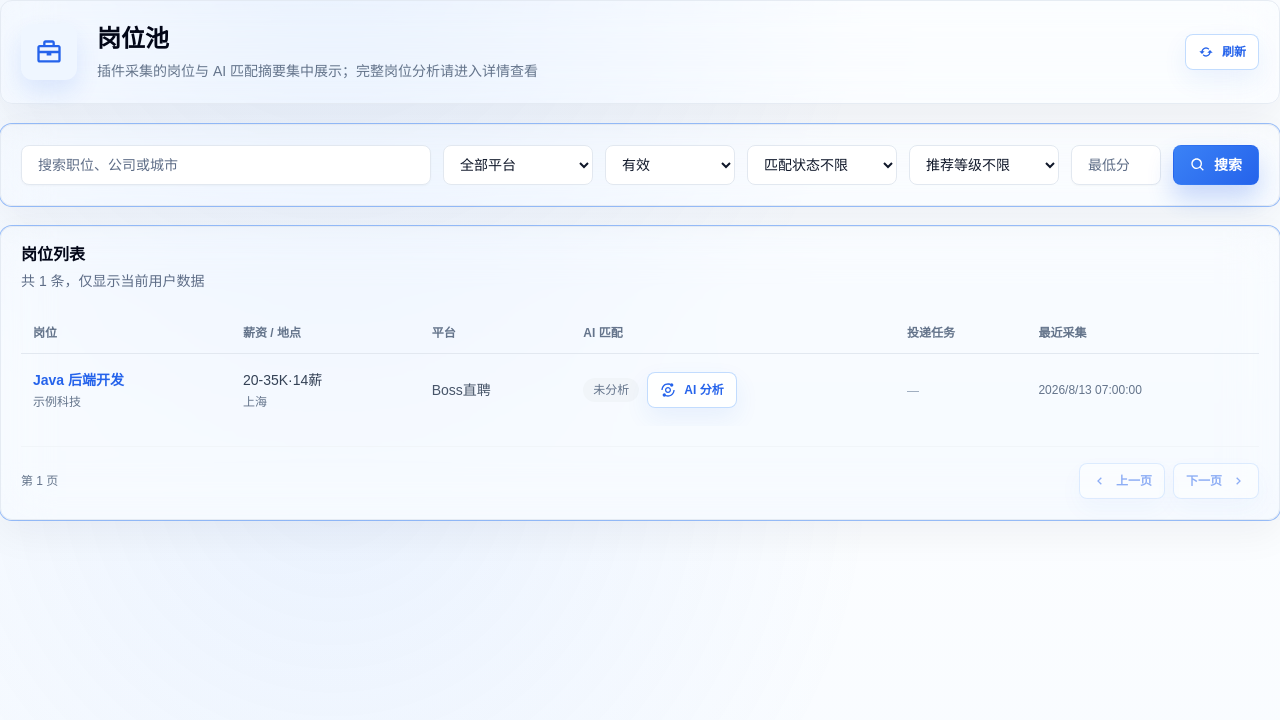
Test: 第五轮统一岗位池 › 未分析岗位提交分析后展示排队状态并禁止重复点击
The image size is (1280, 720).
What coordinates should you click on to do the following:
click the button "AI 分析"
I would click on:
 (692, 390)
Its box is [647,372,737,408].
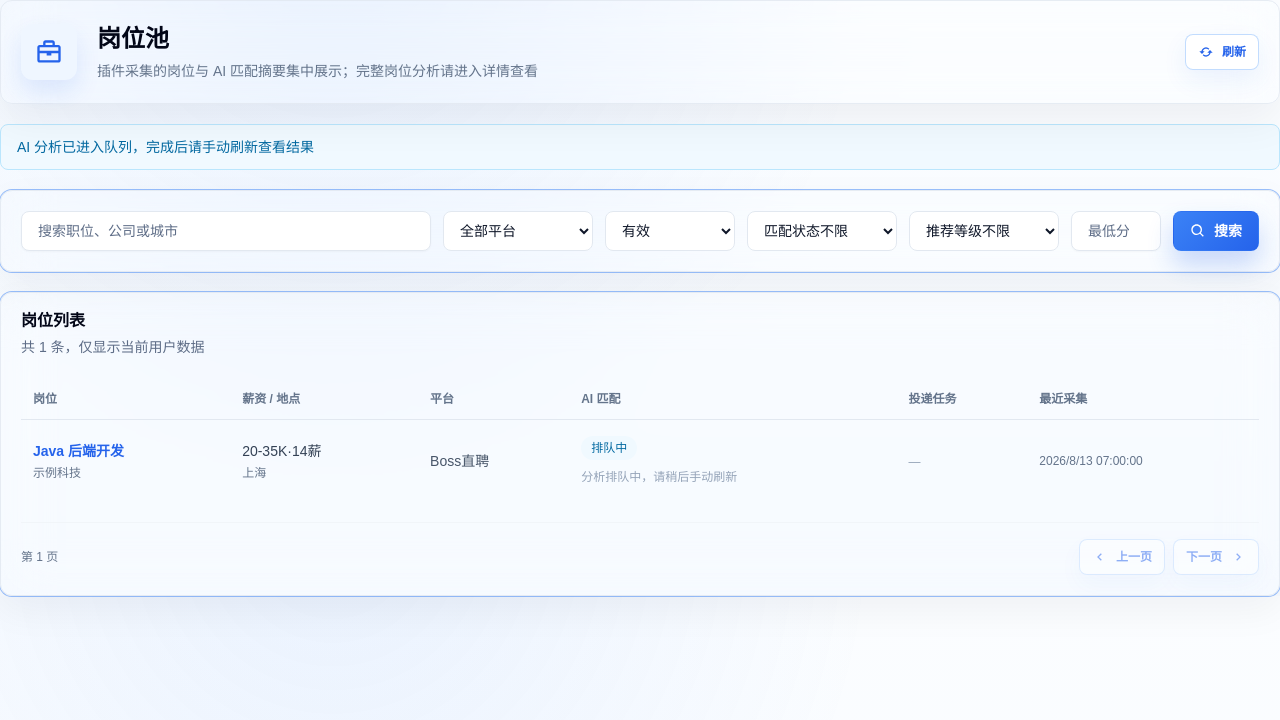
Check: the text "分析排队中，请稍后手动刷新" is shown, box [581,470,737,484]
Check: the text "排队中" is shown, box [581,436,637,460]
